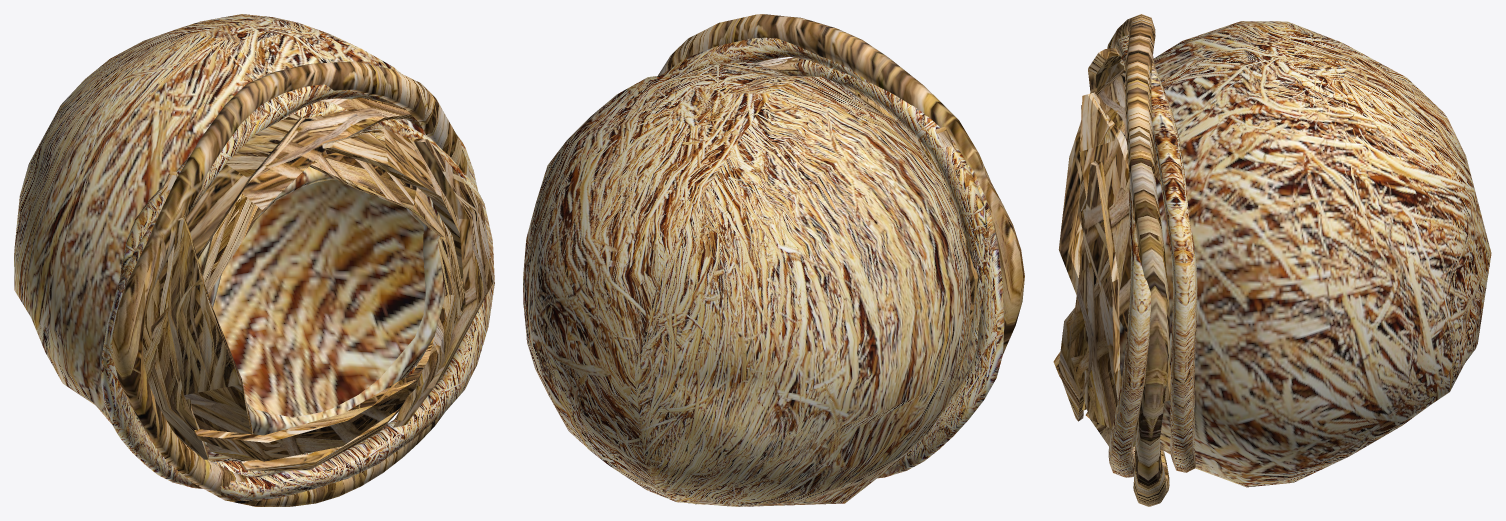
File: BirdsNest.fbx
3 renders of one model, left to right at view 1: azimuth 30°, elevation 25°; view 2: azimuth 150°, elevation 25°; view 3: azimuth 270°, elevation 25°, orthographic.
Parts seen in each view (by area): view 1: Model_nest, Model_branch; view 2: Model_nest, Model_branch; view 3: Model_nest, Model_branch.
Boxes of the visible parts, x1,y1,x2,y2 form: Model_nest: [14, 14, 445, 461]; Model_branch: [101, 61, 494, 506]; Model_nest: [523, 61, 971, 506]; Model_branch: [658, 14, 1024, 478]; Model_nest: [1119, 21, 1491, 487]; Model_branch: [1053, 14, 1197, 506].
Size of the model in its own units: 181 by 193 by 170.
